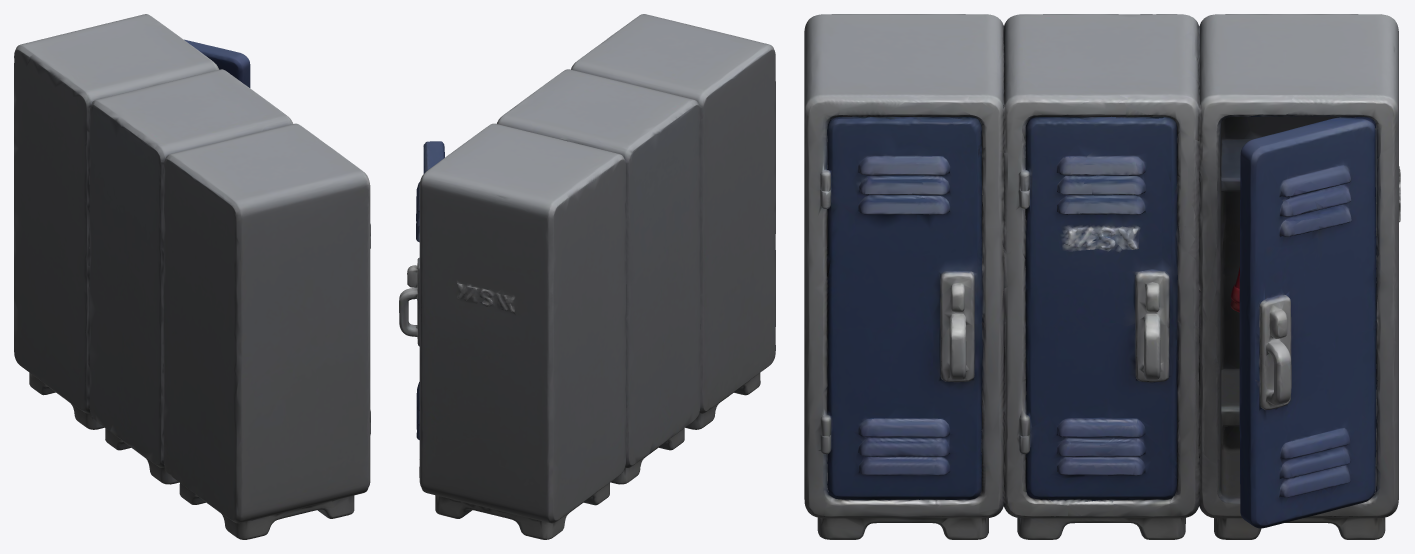
Rendered from blue-locker-base.glb.
3 renders of one model, left to right at view 1: azimuth 30°, elevation 25°; view 2: azimuth 150°, elevation 25°; view 3: azimuth 270°, elevation 25°, orthographic. The views are drawn at different scales.
Parts seen in each view (by area): view 1: tripo_node_d0b714e3-ecd6-4178-8579-ba59964c5b04; view 2: tripo_node_d0b714e3-ecd6-4178-8579-ba59964c5b04; view 3: tripo_node_d0b714e3-ecd6-4178-8579-ba59964c5b04.
Part boxes in pixels (box(x1,y1,x2,y2)): tripo_node_d0b714e3-ecd6-4178-8579-ba59964c5b04: box(14, 14, 370, 539); tripo_node_d0b714e3-ecd6-4178-8579-ba59964c5b04: box(399, 14, 775, 539); tripo_node_d0b714e3-ecd6-4178-8579-ba59964c5b04: box(804, 14, 1400, 539).
Bounding box in the file's own units: 0.4924 × 0.8157 × 0.9798.
Materials: 1 (1 with a texture image).
